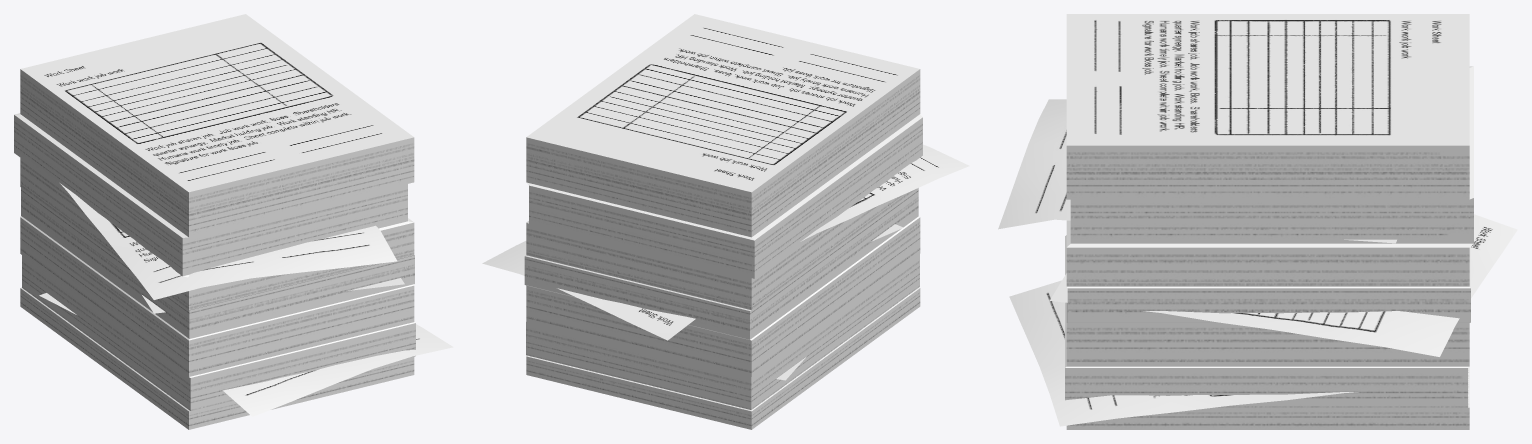
Rendered from PaperStack.fbx.
The picture shows the model from 3 angles, left to right: view 1: azimuth 30°, elevation 25°; view 2: azimuth 150°, elevation 25°; view 3: azimuth 270°, elevation 25°; orthographic projection. The views are drawn at different scales.
Visible parts, largest first — view 1: polySurface32; view 2: polySurface32; view 3: polySurface32.
Part boxes in pixels (box(x1,y1,x2,y2)): polySurface32: box(14, 14, 453, 429); polySurface32: box(482, 14, 969, 429); polySurface32: box(998, 14, 1517, 429).
Bounding box in the file's own units: 31.07 × 21.74 × 36.03.
1 material, 1 textured.
